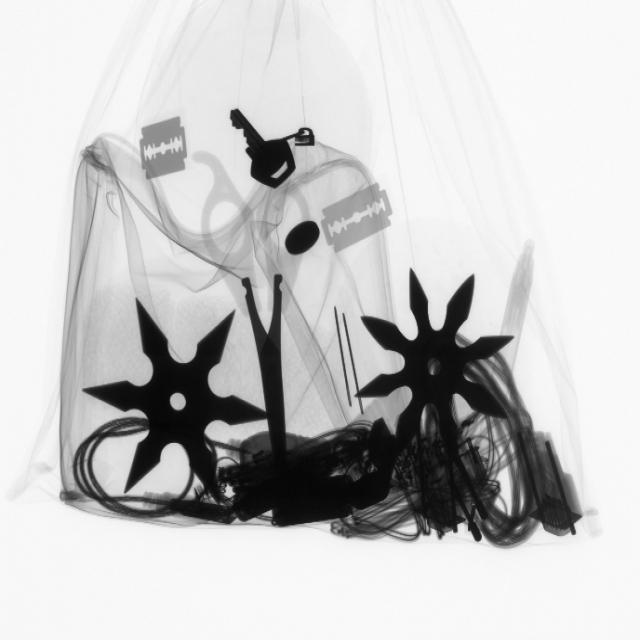BLADE: (316, 178, 397, 260), (131, 109, 192, 187)
SHURIKEN: (90, 296, 260, 502), (351, 265, 512, 472)
